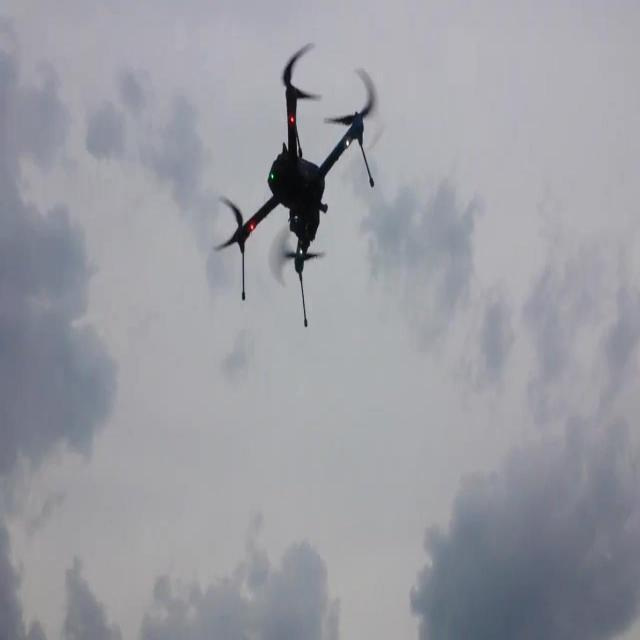UAV: (212, 42, 380, 328)
